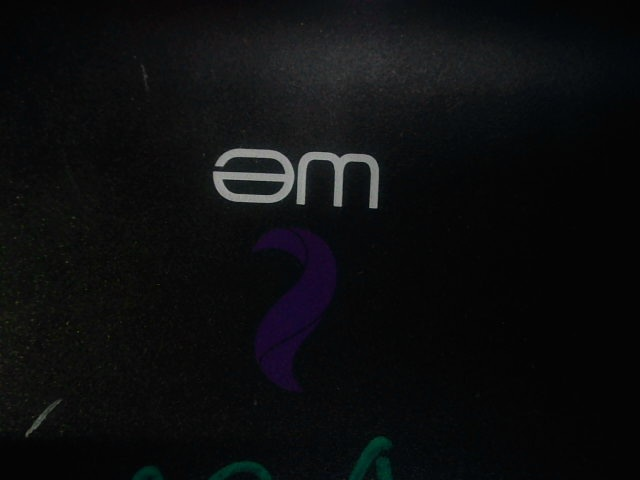AT_We: (184, 146, 422, 394)
